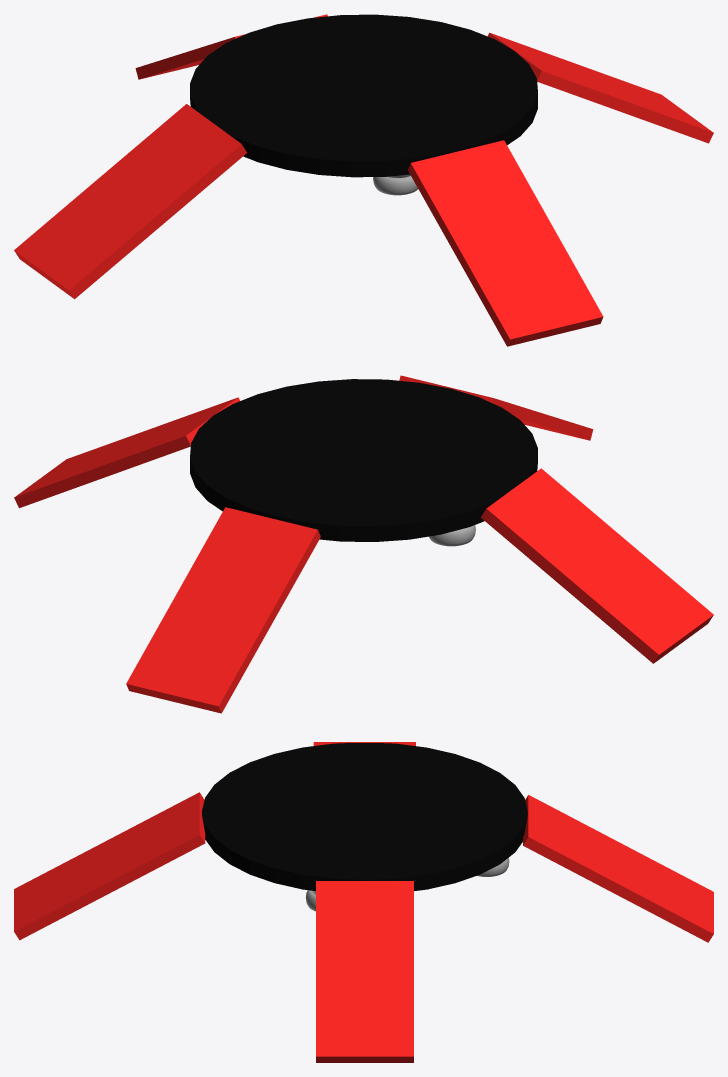
3 renders of one model, top to bottom at view 1: azimuth 30°, elevation 25°; view 2: azimuth 150°, elevation 25°; view 3: azimuth 270°, elevation 25°, orthographic. The views are drawn at different scales.
Visible parts, largest first — view 1: base, Plane.003, Plane.001, Plane, Plane.002, exhaust; view 2: base, Plane.002, Plane.001, Plane, Plane.003, exhaust.001; view 3: base, Plane, Plane.003, Plane.002.
Part boxes in pixels (left/top/right/bottom): base: left=190, top=14, right=537, bottom=177; Plane.003: left=408, top=140, right=603, bottom=346; Plane.001: left=14, top=104, right=246, bottom=299; Plane: left=487, top=32, right=713, bottom=143; Plane.002: left=135, top=14, right=327, bottom=79; exhaust: left=373, top=174, right=417, bottom=195; base: left=190, top=379, right=537, bottom=541; Plane.002: left=126, top=507, right=320, bottom=713; Plane.001: left=481, top=468, right=713, bottom=663; Plane: left=14, top=397, right=239, bottom=508; Plane.003: left=399, top=375, right=593, bottom=440; exhaust.001: left=429, top=525, right=475, bottom=546; base: left=202, top=743, right=527, bottom=891; Plane: left=316, top=881, right=413, bottom=1062; Plane.003: left=14, top=792, right=205, bottom=940; Plane.002: left=523, top=795, right=713, bottom=942.
Size of the model in its own units: 4.28 by 0.7407 by 4.3.
